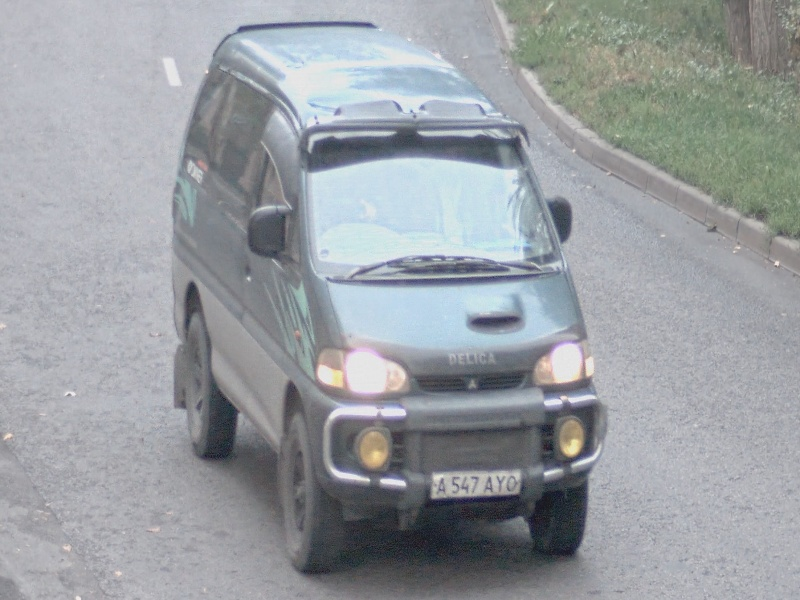plate: (428, 464, 525, 501)
